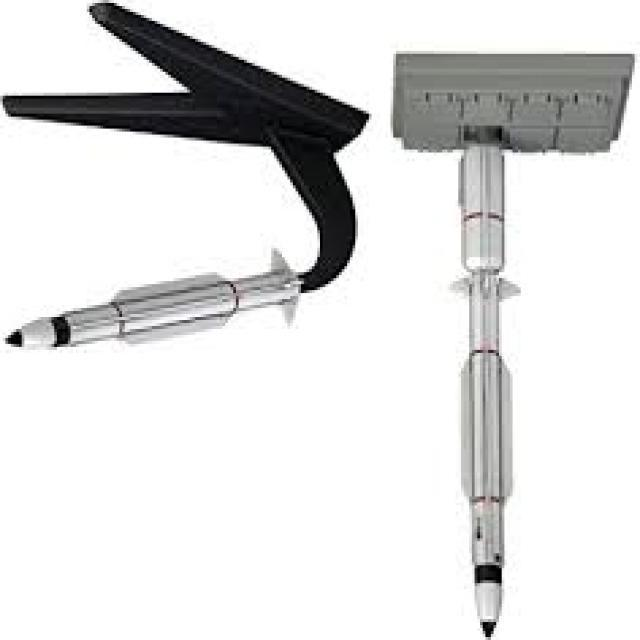Missile: (6, 248, 309, 367), (452, 140, 515, 640)
